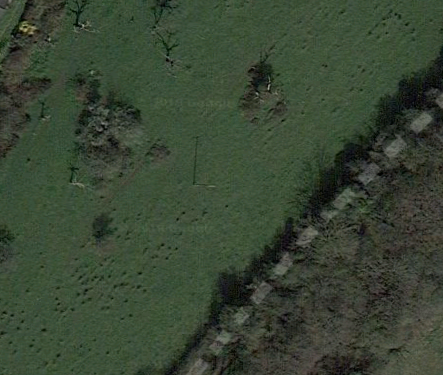tree: (83, 216, 139, 261)
